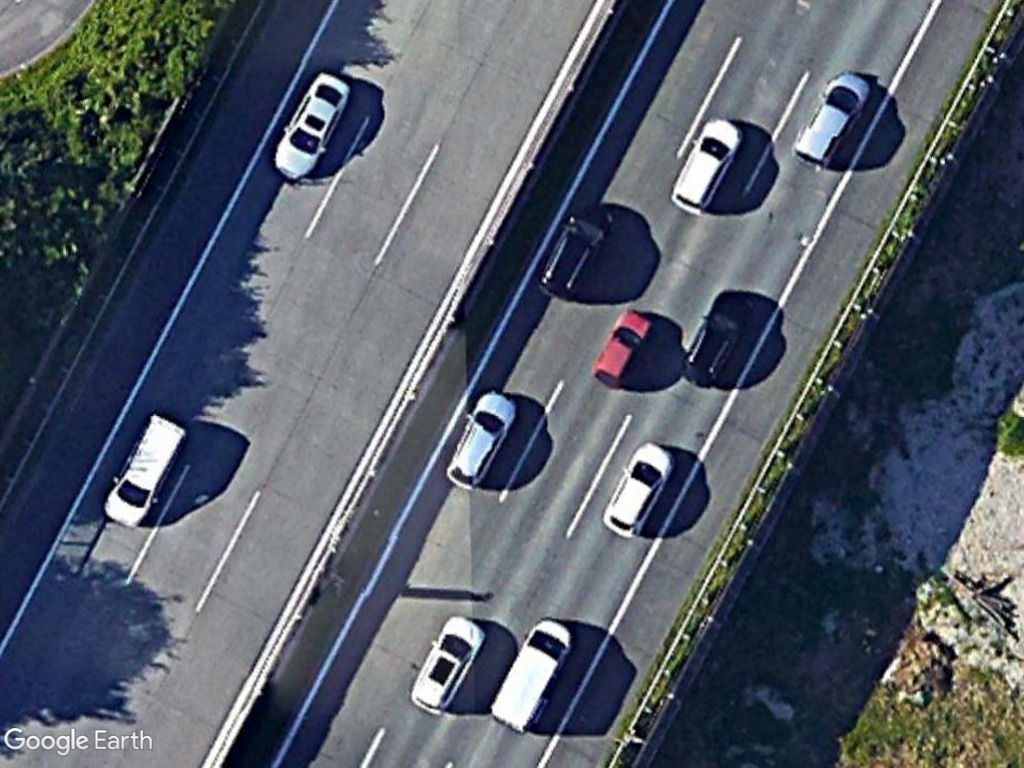car: (264, 62, 357, 188), (785, 64, 875, 170), (533, 194, 620, 302), (666, 110, 752, 219), (439, 384, 521, 497), (407, 607, 487, 716), (598, 436, 679, 540), (676, 284, 756, 389), (584, 303, 657, 388)
van: (482, 613, 579, 737), (100, 404, 188, 534)
